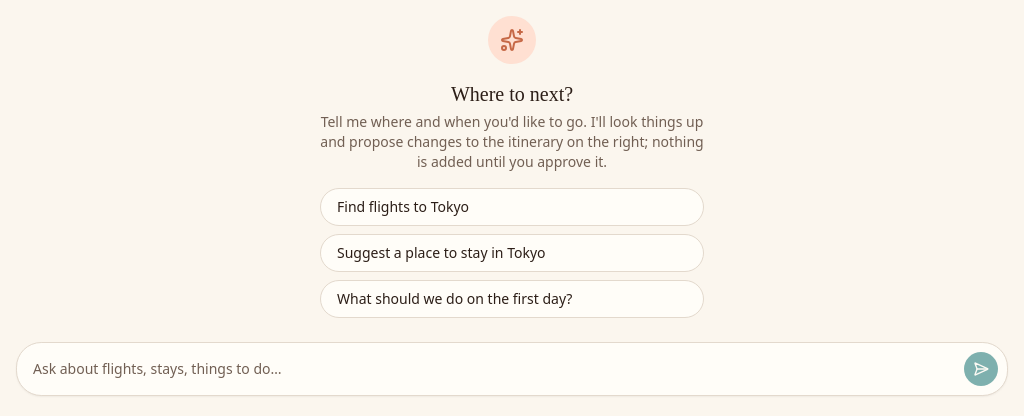
Test: ChatPanel › shows a failure the server stored, via the refreshed history
Expected: the list named "Suggestions" is shown, [320,188,704,318]
Type "Hi" into the text box named "Message" at (490, 369), box [25,351,955,387]
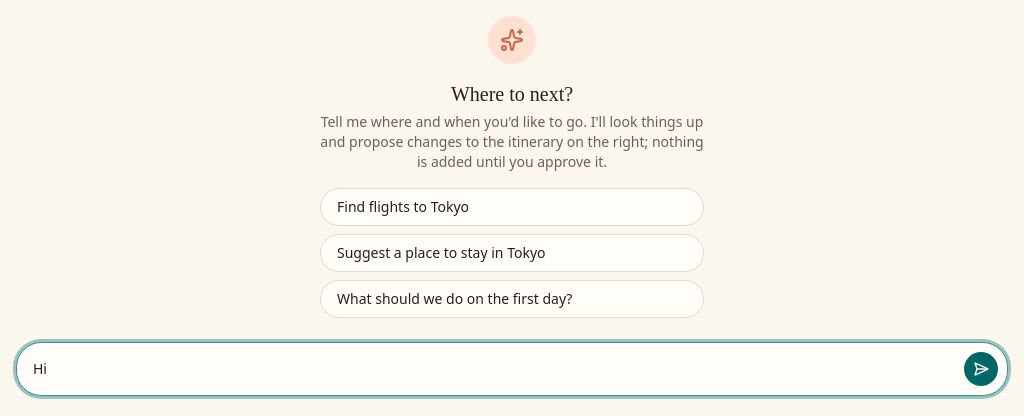
Click the button named "Send message" at (981, 369), box [963,351,999,387]
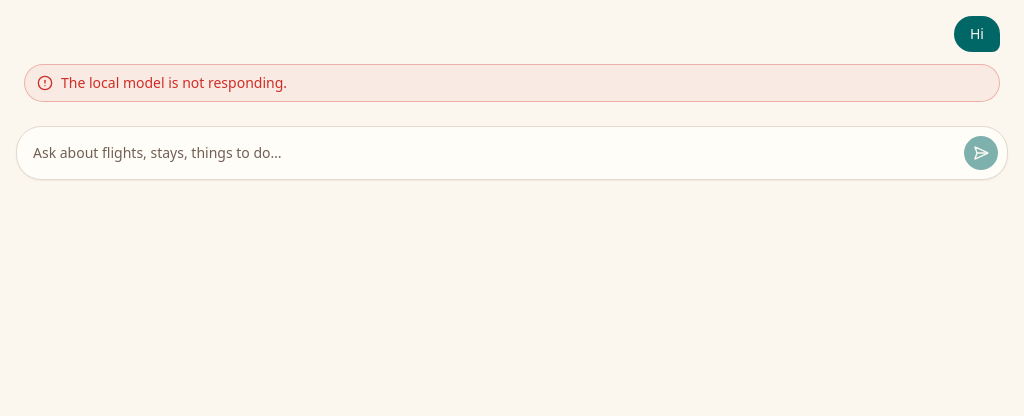
Result: the text "The local model is not responding." is shown once at [61,73,287,93]
